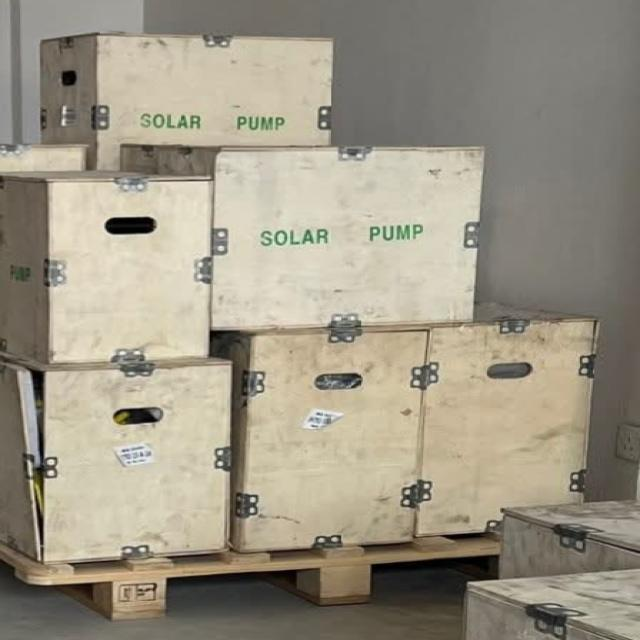package_damage: (1, 359, 70, 564)
wooden_box: (164, 127, 517, 336), (5, 336, 240, 582), (211, 319, 424, 560), (421, 296, 601, 546), (5, 162, 221, 366), (34, 19, 357, 152)
